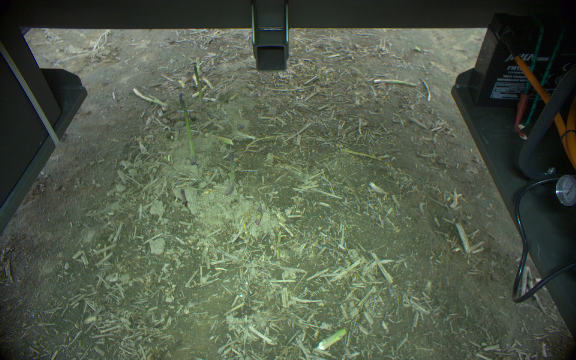aspa: (177, 93, 197, 164), (222, 153, 237, 198), (191, 64, 204, 111), (193, 55, 202, 74)
